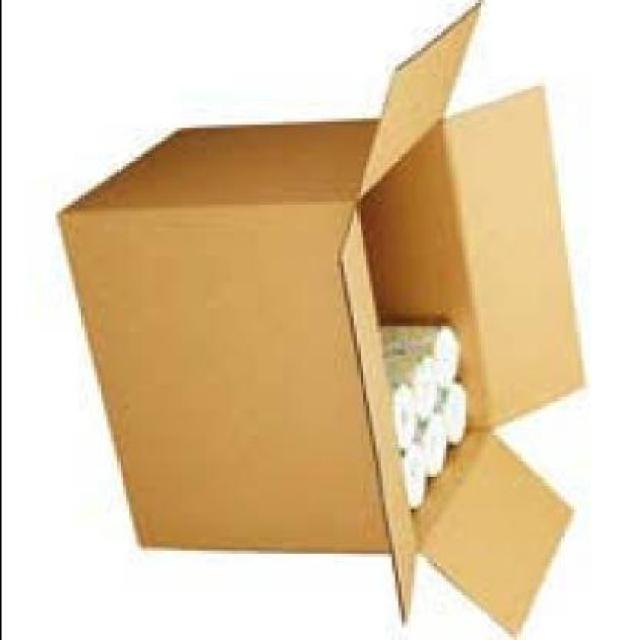CARDBOARD: (60, 6, 589, 639), (58, 218, 396, 556), (445, 90, 589, 425), (340, 211, 426, 624), (428, 432, 574, 638), (61, 124, 384, 213), (362, 9, 483, 205)
